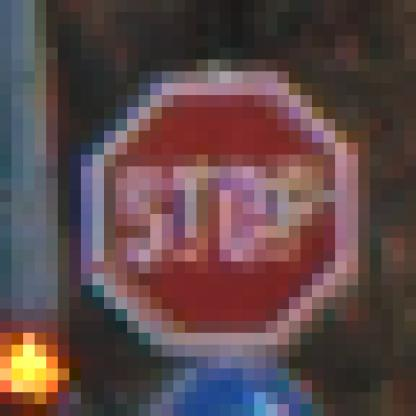Stop: (87, 71, 357, 354)
